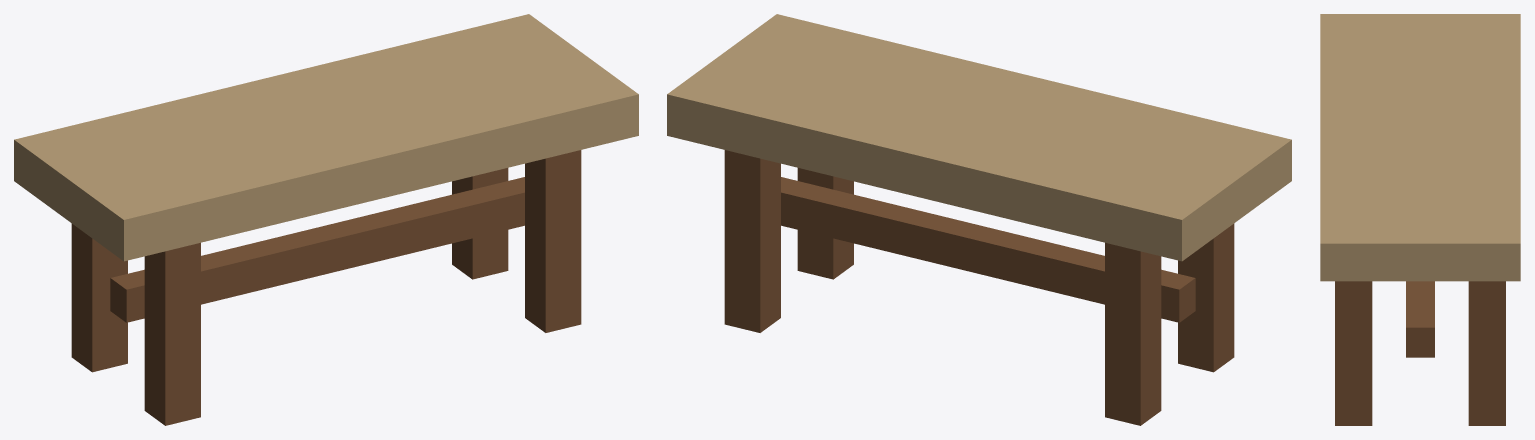
Rendered from bench-ultra.glb.
3 views of the same model, side by side, from view 1: azimuth 30°, elevation 25°; view 2: azimuth 150°, elevation 25°; view 3: azimuth 270°, elevation 25° (orthographic). The views are drawn at different scales.
Parts seen in each view (by area): view 1: bench; view 2: bench; view 3: bench.
Part boxes in pixels (bbox=[...]): bench: bbox=[14, 14, 638, 425]; bench: bbox=[667, 14, 1291, 425]; bench: bbox=[1320, 14, 1520, 425].
Bounding box in the file's own units: 1.3 × 0.54 × 0.48.
